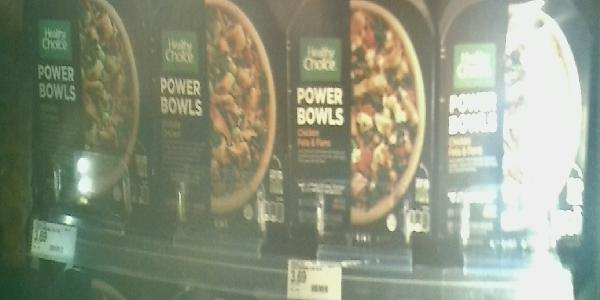pizza1: (438, 1, 592, 252), (288, 1, 436, 248), (162, 1, 296, 246), (31, 1, 160, 226)
